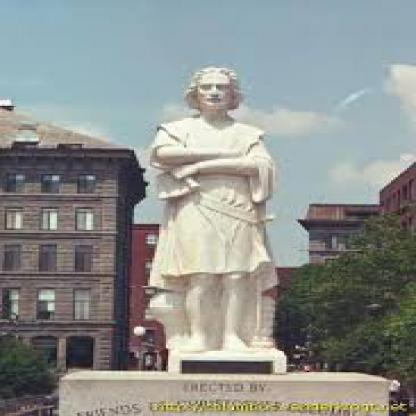Columbus: (127, 48, 318, 384)
